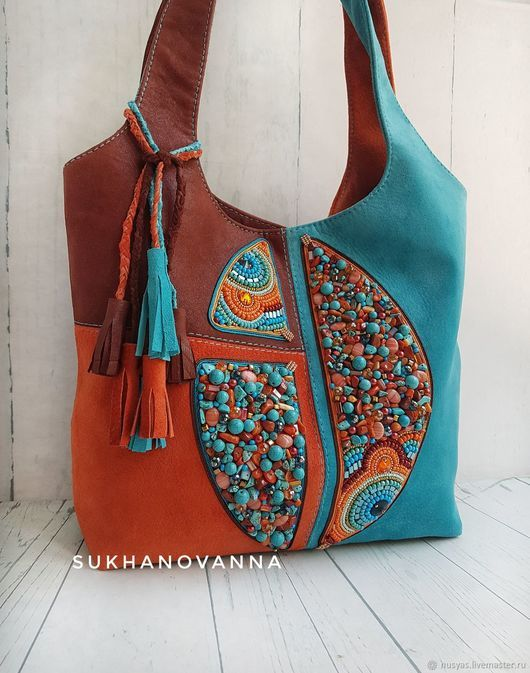cuero: (62, 1, 468, 572)
